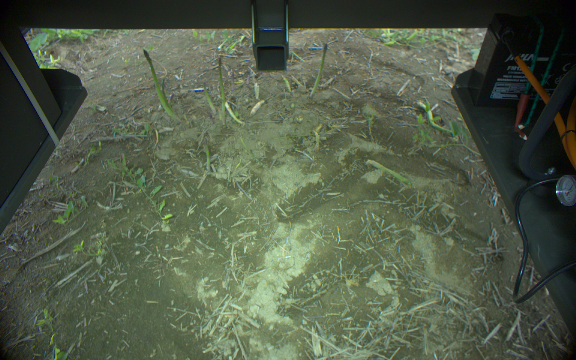aspa: (141, 47, 182, 124), (366, 157, 414, 189), (308, 41, 329, 101), (422, 103, 454, 138), (214, 53, 228, 127), (200, 84, 216, 117)
